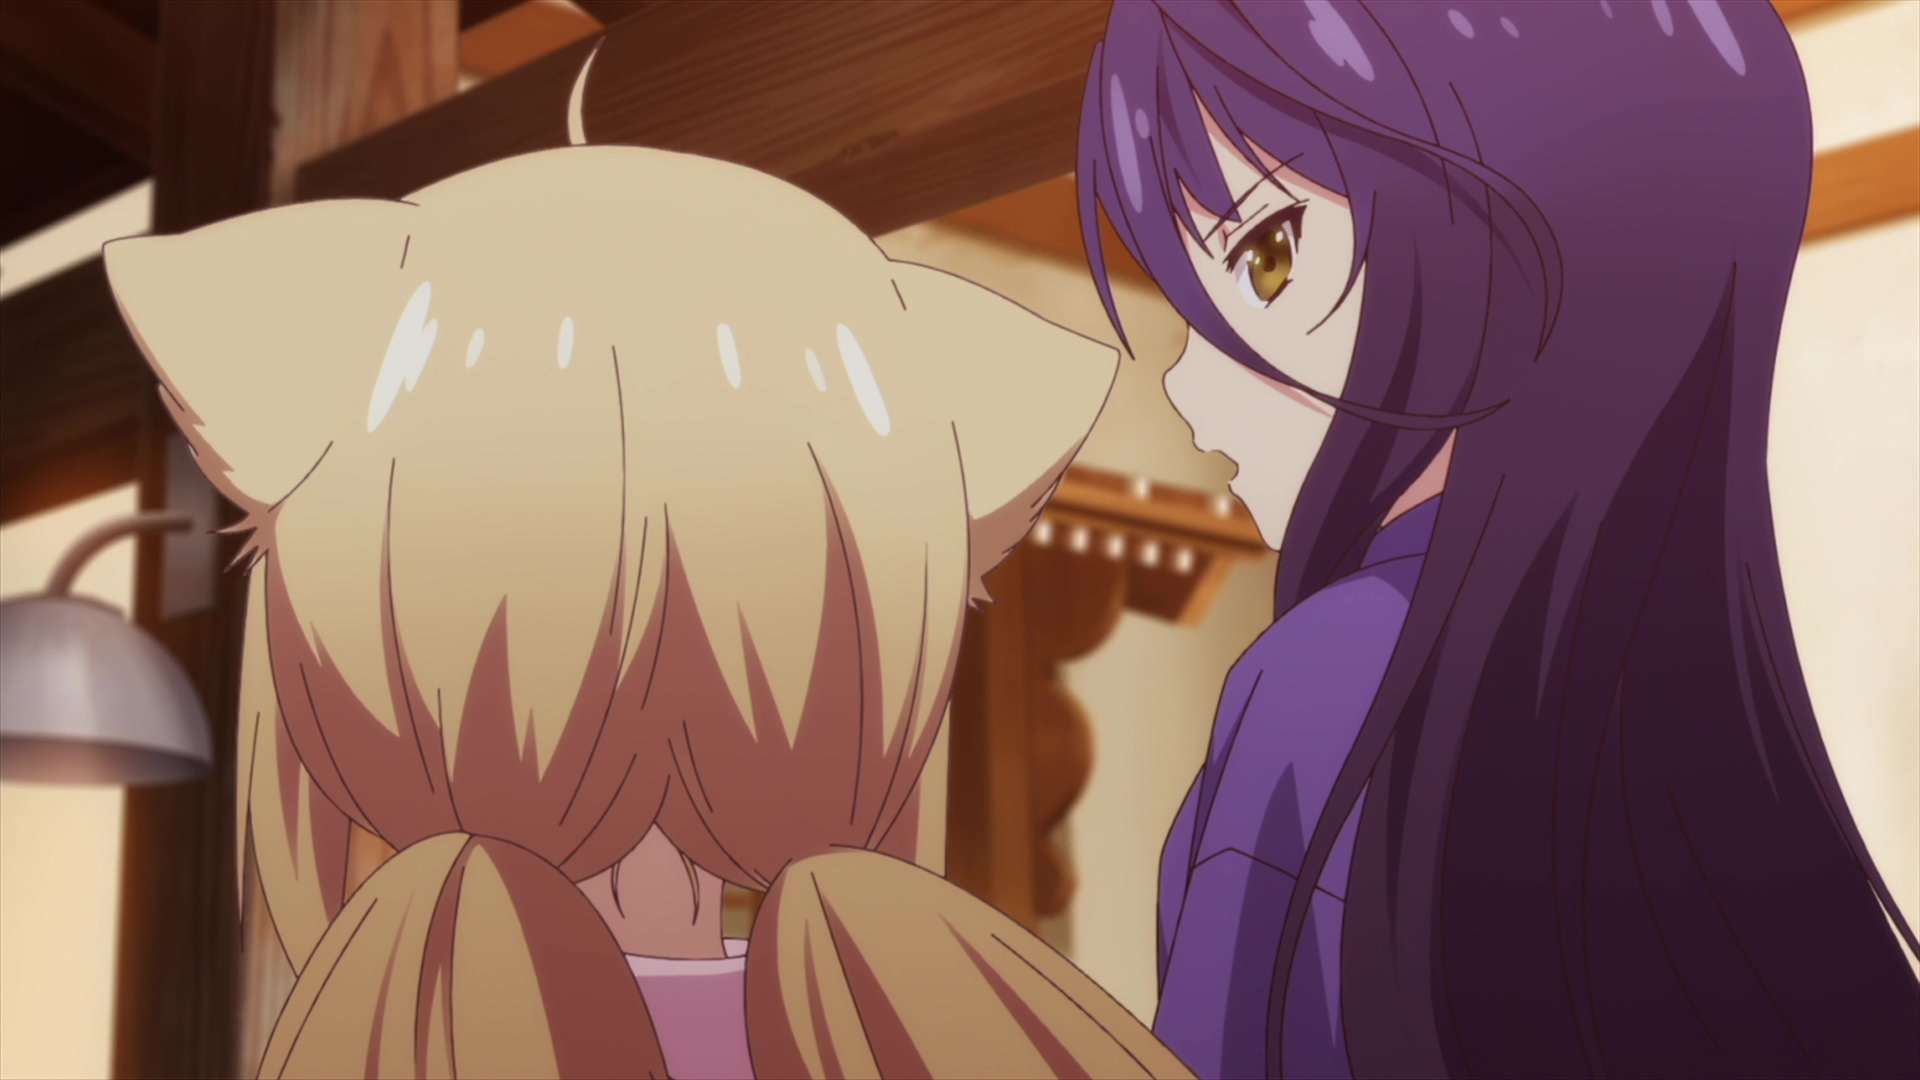柚: (102, 37, 1196, 1080)
皋: (1073, 1, 1920, 1080)
